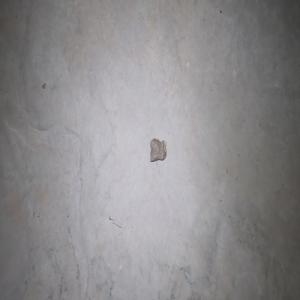Rock: (149, 136, 166, 162)
